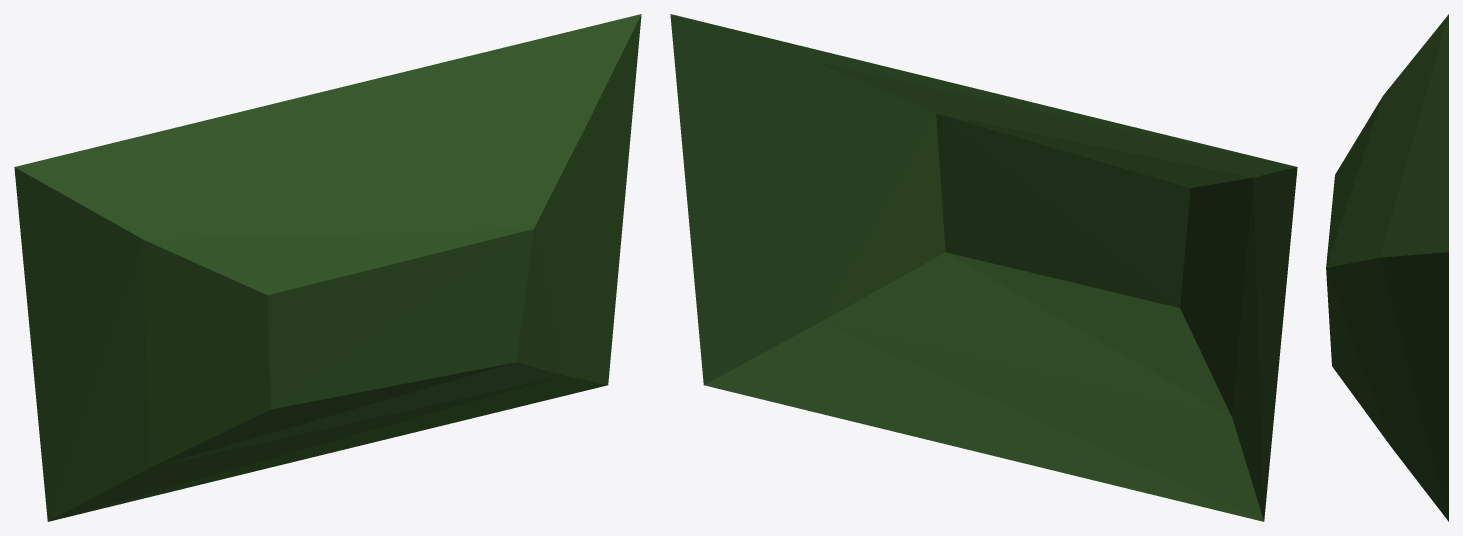
The model's file is SM_CommonVillageSlope.obj.
3 views of the same model, side by side, from view 1: azimuth 30°, elevation 25°; view 2: azimuth 150°, elevation 25°; view 3: azimuth 270°, elevation 25° (orthographic). The views are drawn at different scales.
Parts seen in each view (by area): view 1: SM_CommonVillageSlope; view 2: SM_CommonVillageSlope; view 3: SM_CommonVillageSlope.
Boxes of the visible parts, left/top/right/bottom form: SM_CommonVillageSlope: left=14, top=14, right=641, bottom=521; SM_CommonVillageSlope: left=670, top=14, right=1297, bottom=521; SM_CommonVillageSlope: left=1326, top=14, right=1448, bottom=521.
Size of the model in its own units: 940 by 520 by 205.
